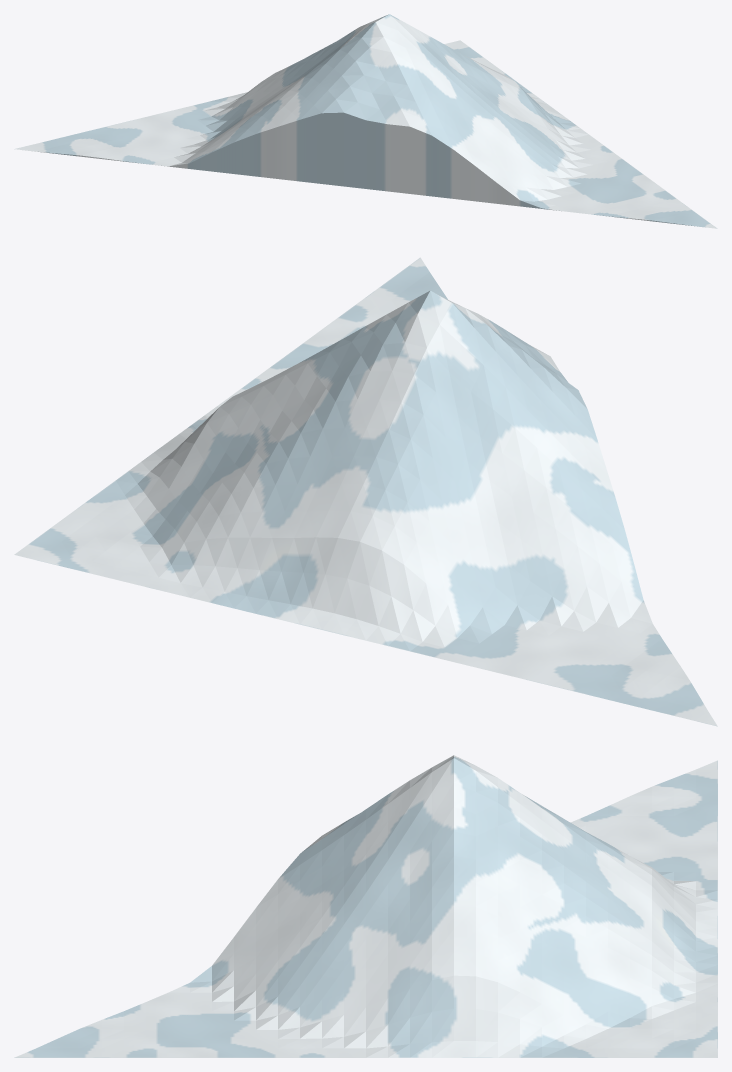
File: Snow_Mountains_09_SE.obj
3 renders of one model, top to bottom at view 1: azimuth 30°, elevation 25°; view 2: azimuth 150°, elevation 25°; view 3: azimuth 270°, elevation 25°, orthographic. The views are drawn at different scales.
Bounding box in the file's own units: 10 × 2.95 × 10.
Materials: 1 (1 with a texture image).
